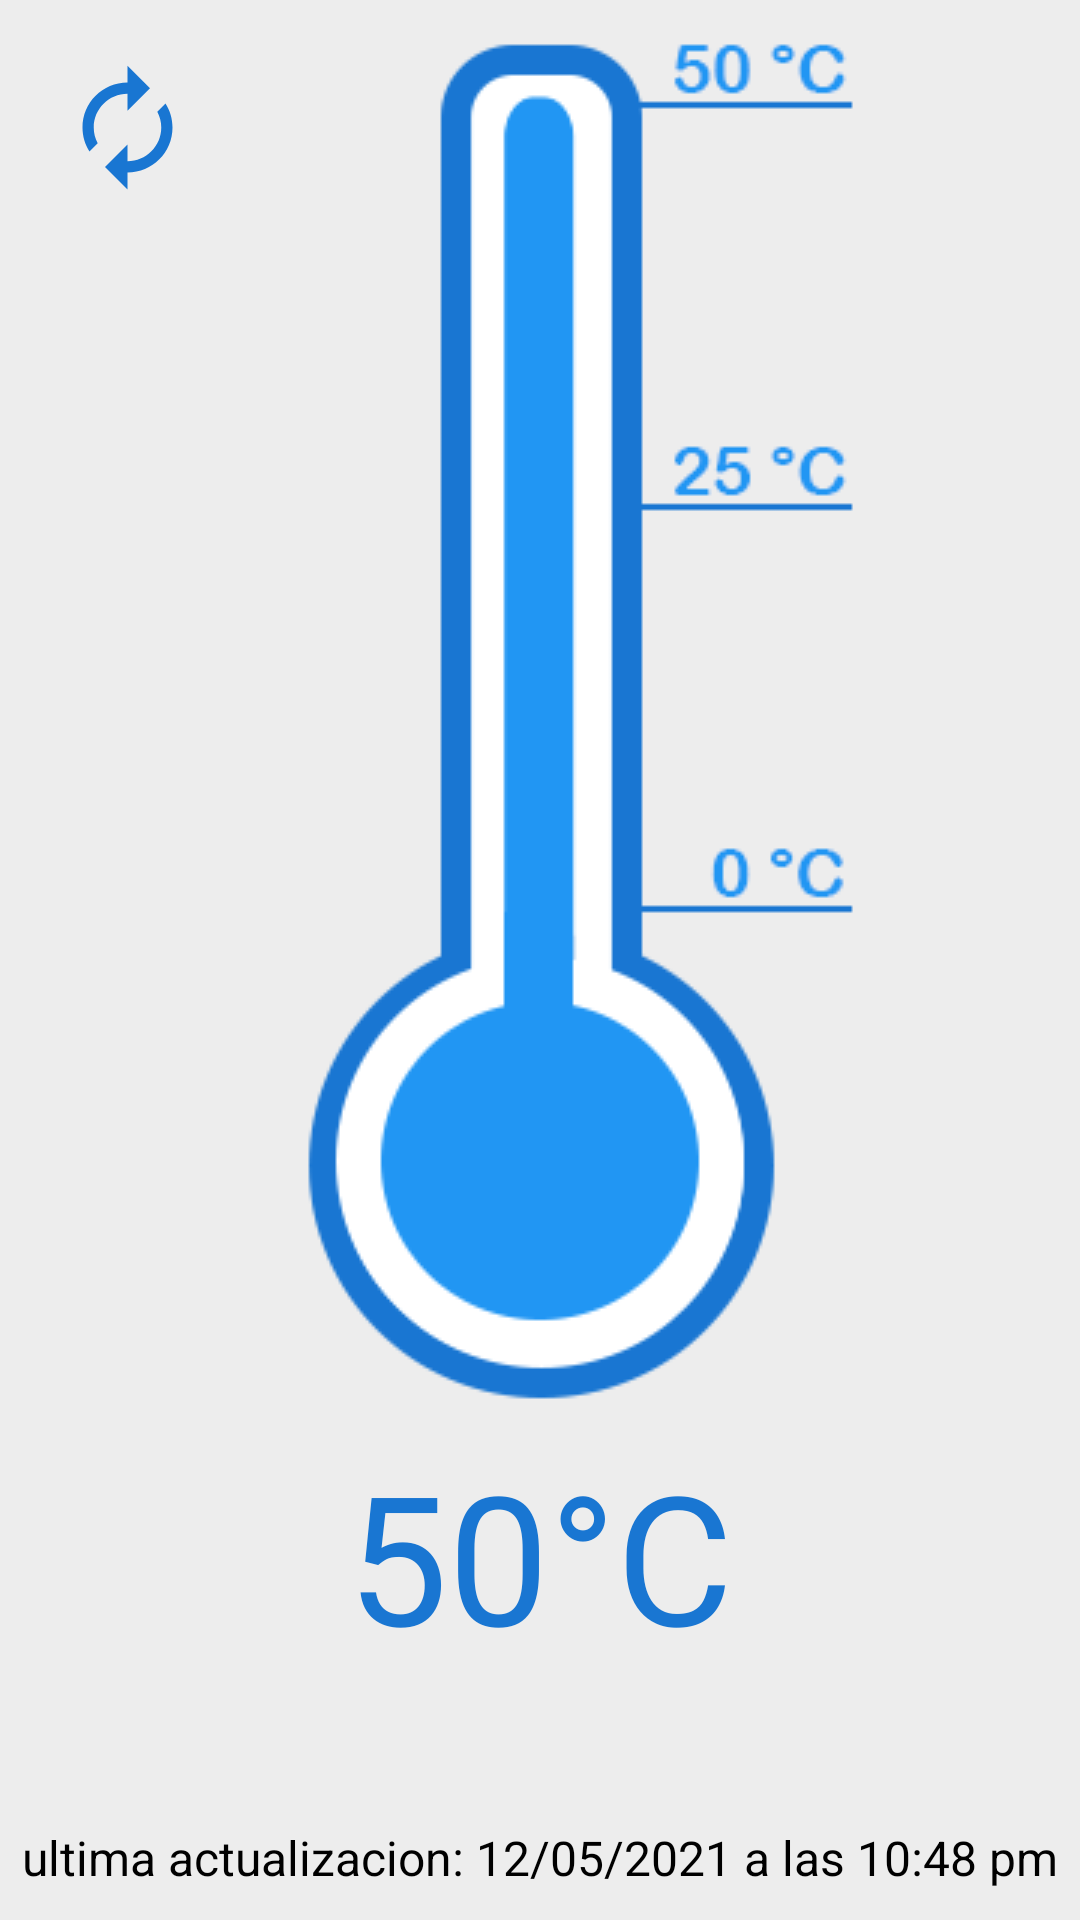

Where to tap for icons on this 1080×1920 app screen, as [x,y]:
actualizar: [127,128]
